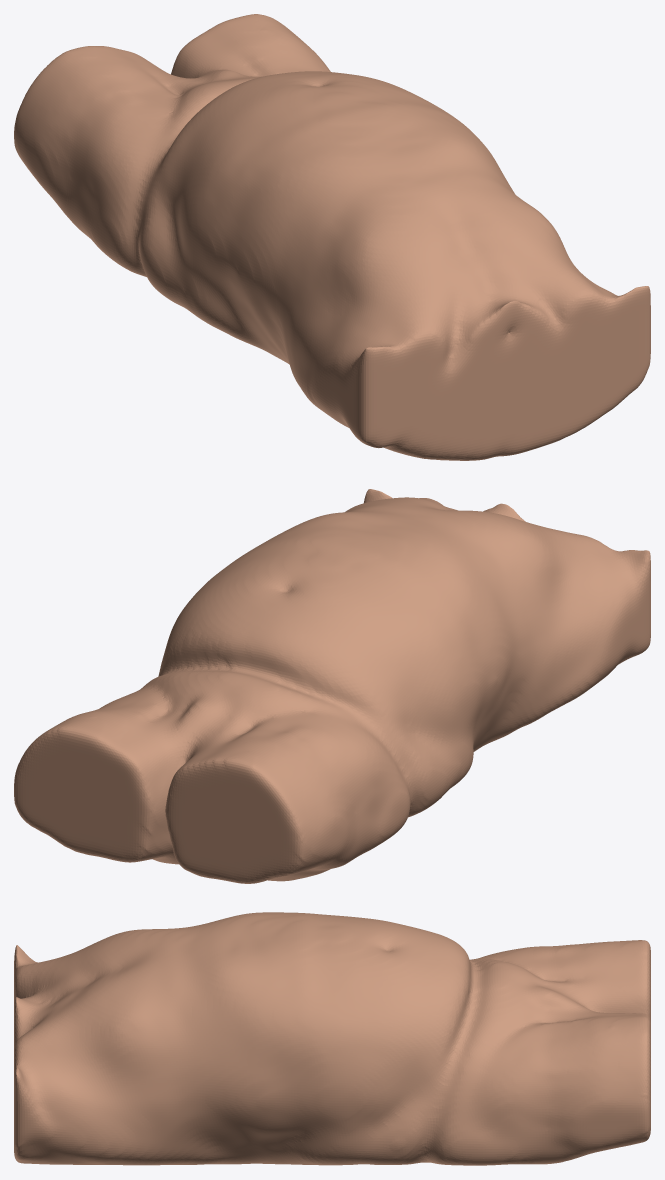
The model's file is chestabdopelvis_skin.glb.
3 renders of one model, top to bottom at view 1: azimuth 30°, elevation 25°; view 2: azimuth 150°, elevation 25°; view 3: azimuth 270°, elevation 25°, orthographic. The views are drawn at different scales.
Parts seen in each view (by area): view 1: world; view 2: world; view 3: world.
Part boxes in pixels (x1,y1,x2,y2): world: (14,14,650,460); world: (14,489,650,883); world: (14,912,650,1165).
Size of the model in its own units: 418 by 313 by 862.
